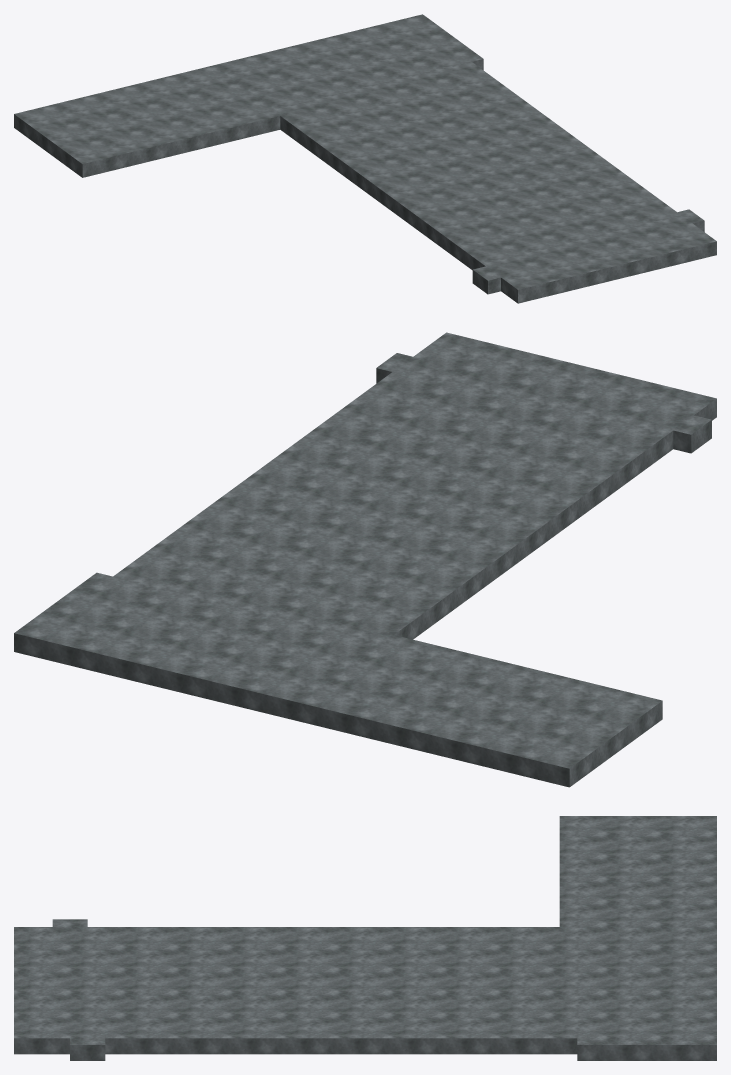
File: kitchenFloor.fbx
3 views of the same model, one above another, from view 1: azimuth 30°, elevation 25°; view 2: azimuth 150°, elevation 25°; view 3: azimuth 270°, elevation 25° (orthographic). The views are drawn at different scales.
Visible parts, largest first — view 1: block (×4); view 2: block (×4); view 3: block (×4).
Boxes of the visible parts, bbox=[...] form: block (×4): bbox=[14, 14, 716, 303]; block (×4): bbox=[14, 332, 716, 787]; block (×4): bbox=[14, 816, 716, 1060].
Bounding box in the file's own units: 101 × 3.26 × 131.
